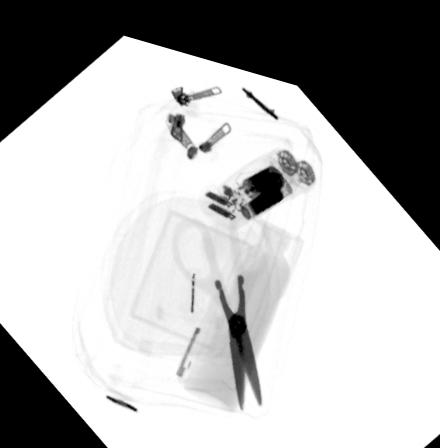Scissors: (171, 185, 276, 397)
